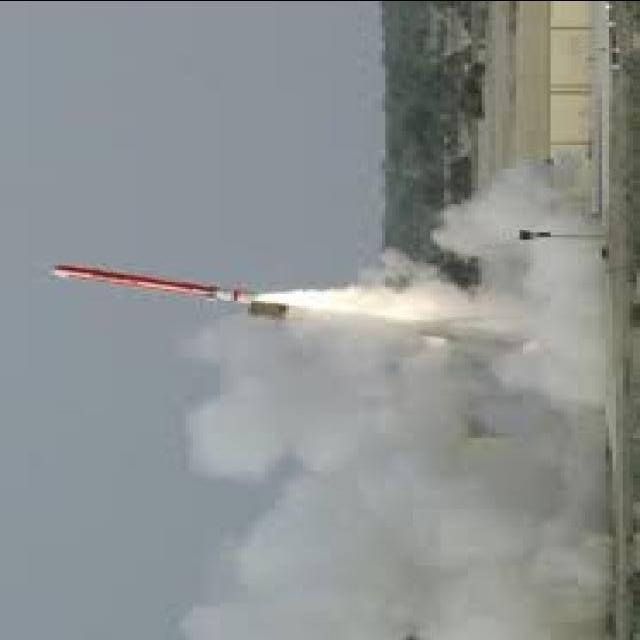Missile: (47, 262, 257, 305)
